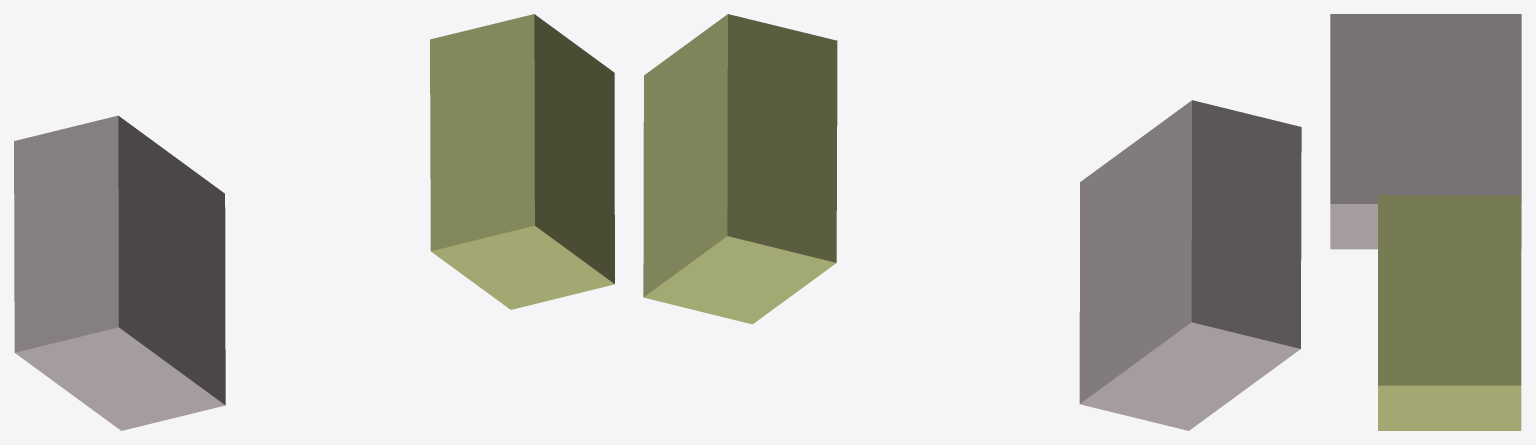
The picture shows the model from 3 angles, left to right: view 1: azimuth 30°, elevation 25°; view 2: azimuth 150°, elevation 25°; view 3: azimuth 270°, elevation 25°; orthographic projection. The views are drawn at different scales.
Parts seen in each view (by area): view 1: 0_2_0_1_1_2_1_3; view 2: 0_2_0_1_1_2_1_3; view 3: 0_2_0_1_1_2_1_3.
Part boxes in pixels (left/top/right/bottom): 0_2_0_1_1_2_1_3: left=14, top=14, right=614, bottom=430; 0_2_0_1_1_2_1_3: left=643, top=14, right=1301, bottom=430; 0_2_0_1_1_2_1_3: left=1330, top=14, right=1521, bottom=430.
Size of the model in its own units: 33.78 by 13.15 by 12.
